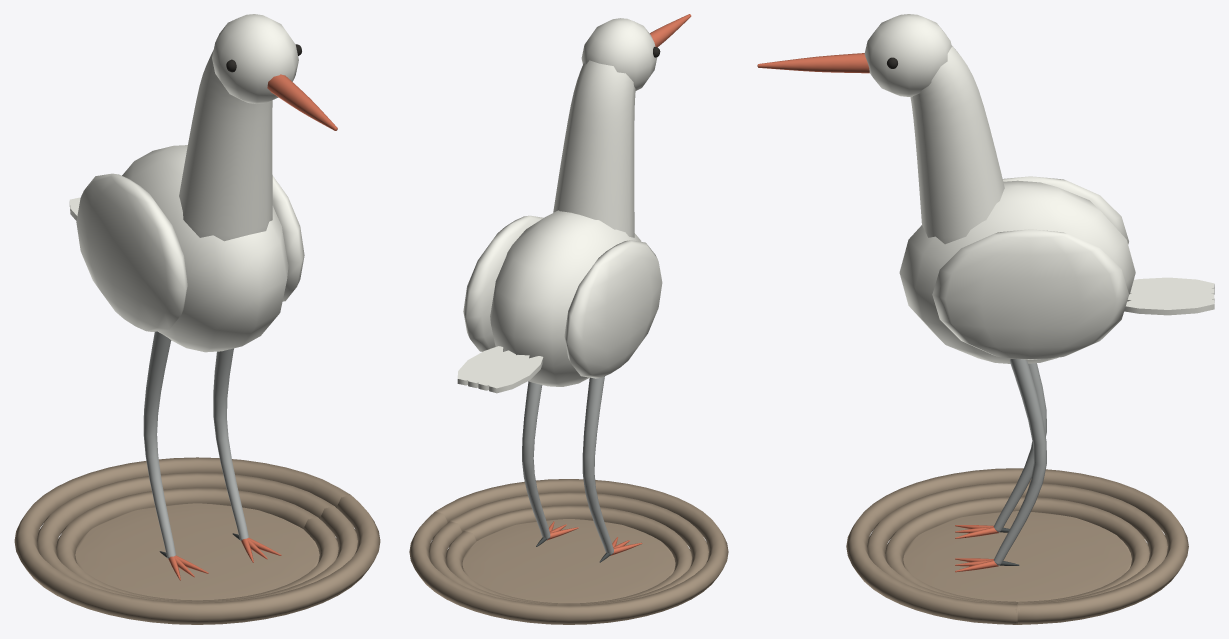
Rendered from birds-and-flying-creatures-white-stork-on-nest-d90011d2__20632.glb.
3 renders of one model, left to right at view 1: azimuth 30°, elevation 25°; view 2: azimuth 150°, elevation 25°; view 3: azimuth 270°, elevation 25°, orthographic. The views are drawn at different scales.
Parts seen in each view (by area): view 1: white-stork-on-nest; view 2: white-stork-on-nest; view 3: white-stork-on-nest.
Boxes of the visible parts, box(x1,y1,x2,y2) form: white-stork-on-nest: box(14, 14, 380, 624); white-stork-on-nest: box(409, 14, 728, 624); white-stork-on-nest: box(757, 14, 1214, 624).
Bounding box in the file's own units: 0.8559 × 1.52 × 1.14.
